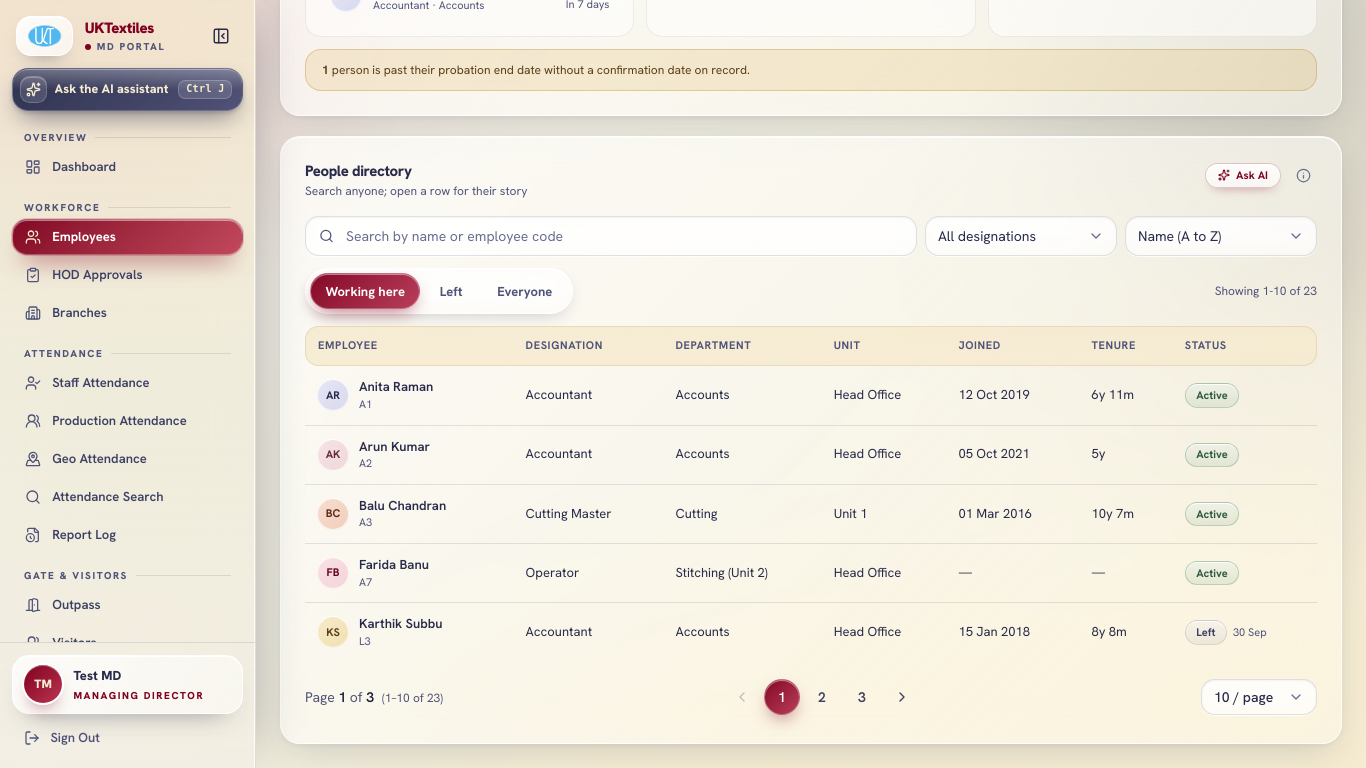
Scenario: MdEmployees › opens a person's story from the directory, read-only, and without pay
The width and height of the screenshot is (1366, 768).
(page scrolled)
Click the row with test id "row-1" at (811, 396), box [305,366,1317,426]
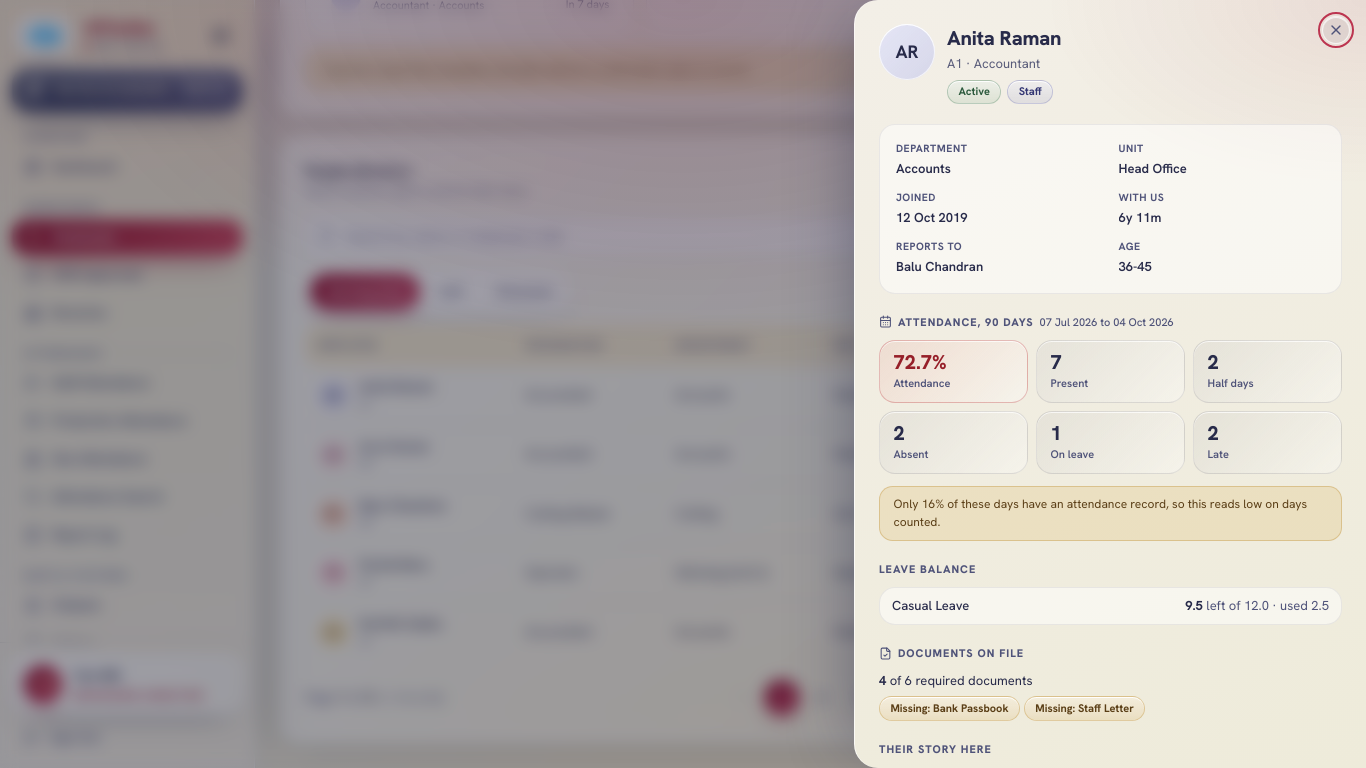
Result: the text "A1 · Accountant" is shown at [947,55,1040,72]
Result: the text "Reports to" is shown at [896,239,962,253]
Result: the text "Attendance, 90 days" is shown at [898,314,1034,328]
